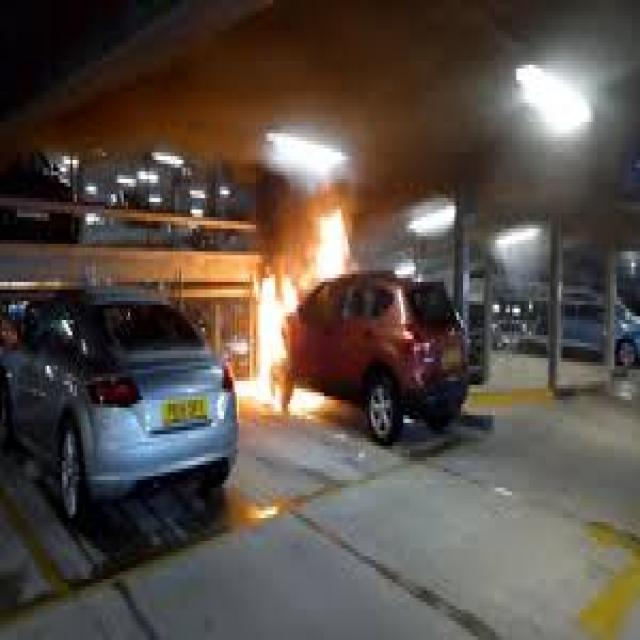Fire: (219, 195, 359, 434)
